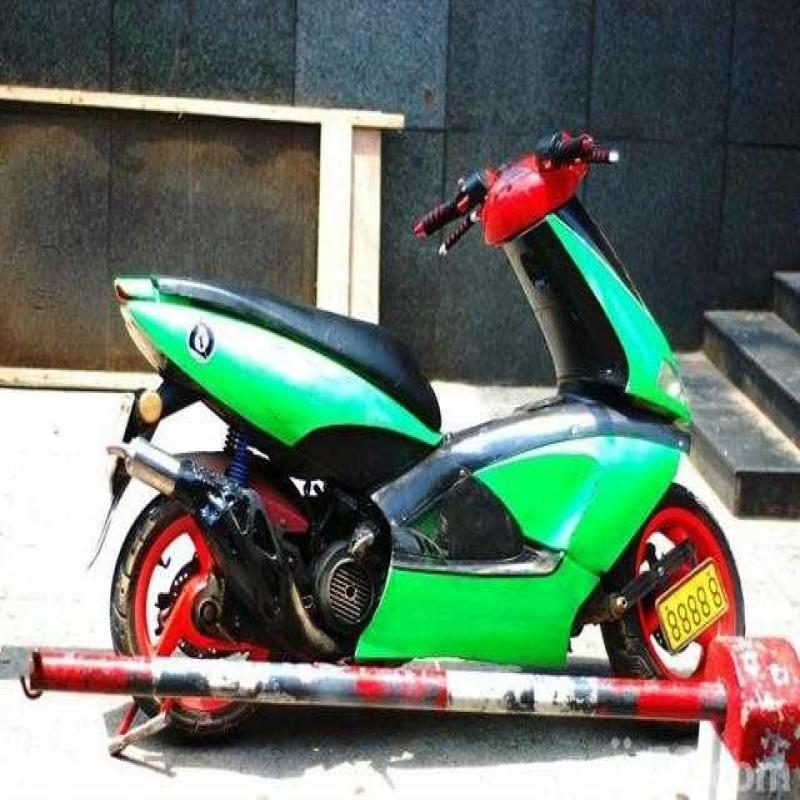bike: (85, 95, 720, 671)
